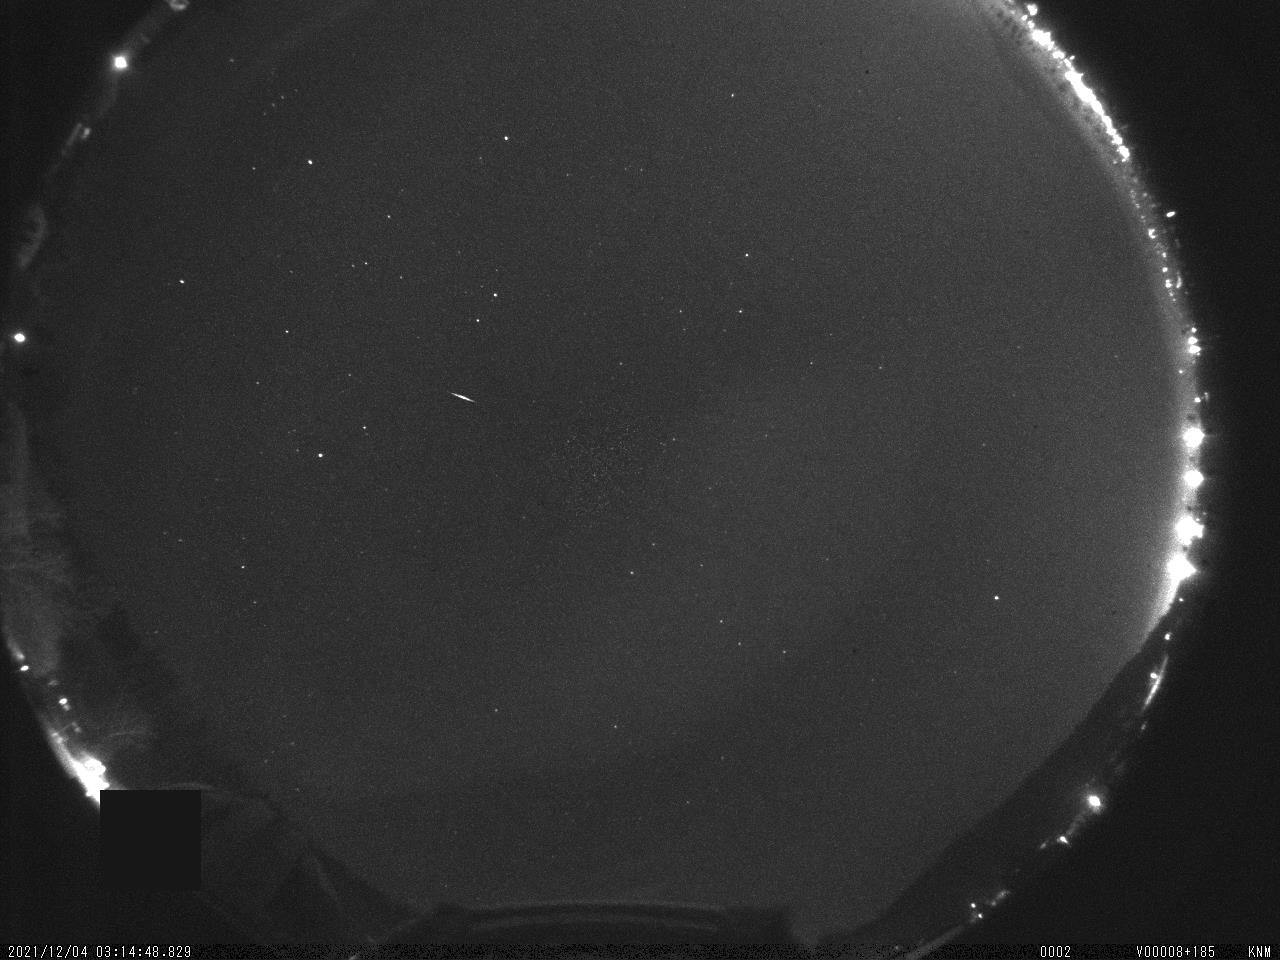meteor: (436, 381, 483, 409)
